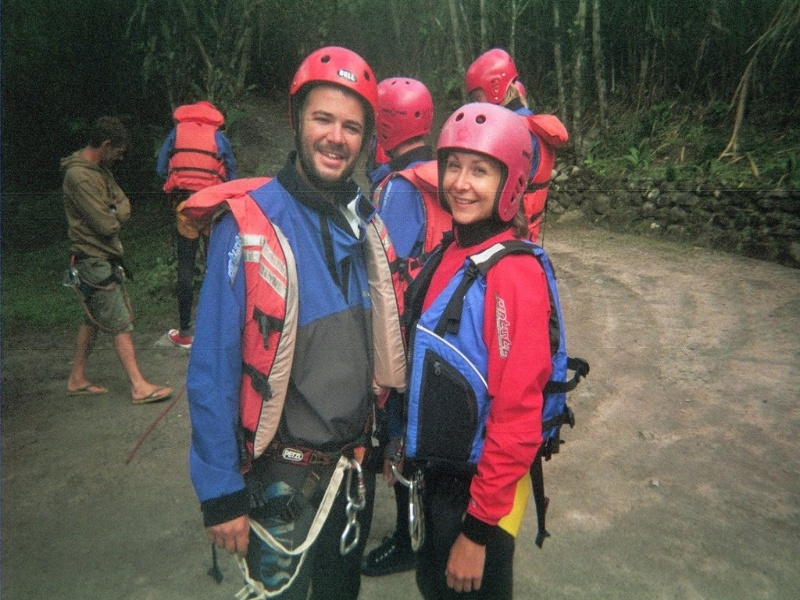helmet: (440, 103, 531, 170), (292, 45, 378, 109), (379, 77, 431, 146), (468, 50, 515, 99)
jacket: (239, 185, 405, 449), (418, 246, 570, 463), (173, 101, 223, 193)
